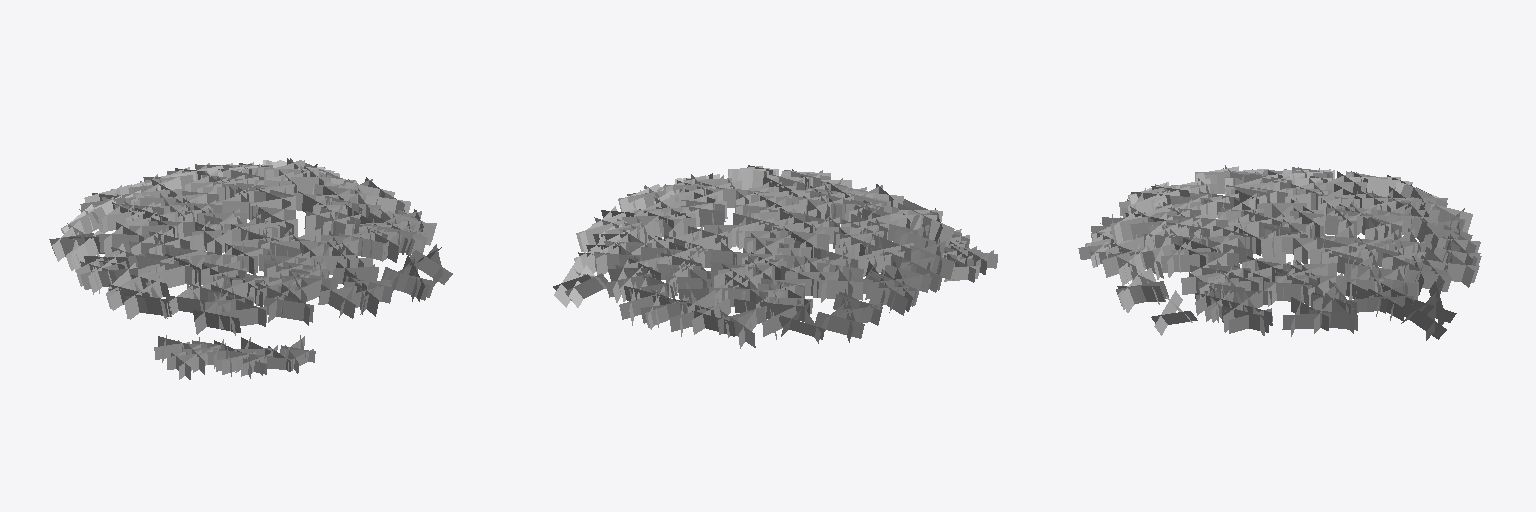
Rendered from sm_grass_terrace05x3.OBJ.
3 renders of one model, left to right at view 1: azimuth 30°, elevation 25°; view 2: azimuth 150°, elevation 25°; view 3: azimuth 270°, elevation 25°, orthographic.
Visible parts, largest first — view 1: ZBrushPolyMesh3D; view 2: ZBrushPolyMesh3D; view 3: ZBrushPolyMesh3D.
Part boxes in pixels (bbox=[...]): ZBrushPolyMesh3D: bbox=[49, 158, 452, 379]; ZBrushPolyMesh3D: bbox=[553, 165, 997, 348]; ZBrushPolyMesh3D: bbox=[1078, 165, 1481, 340].
Size of the model in its own units: 4.41 by 0.8433 by 4.78.